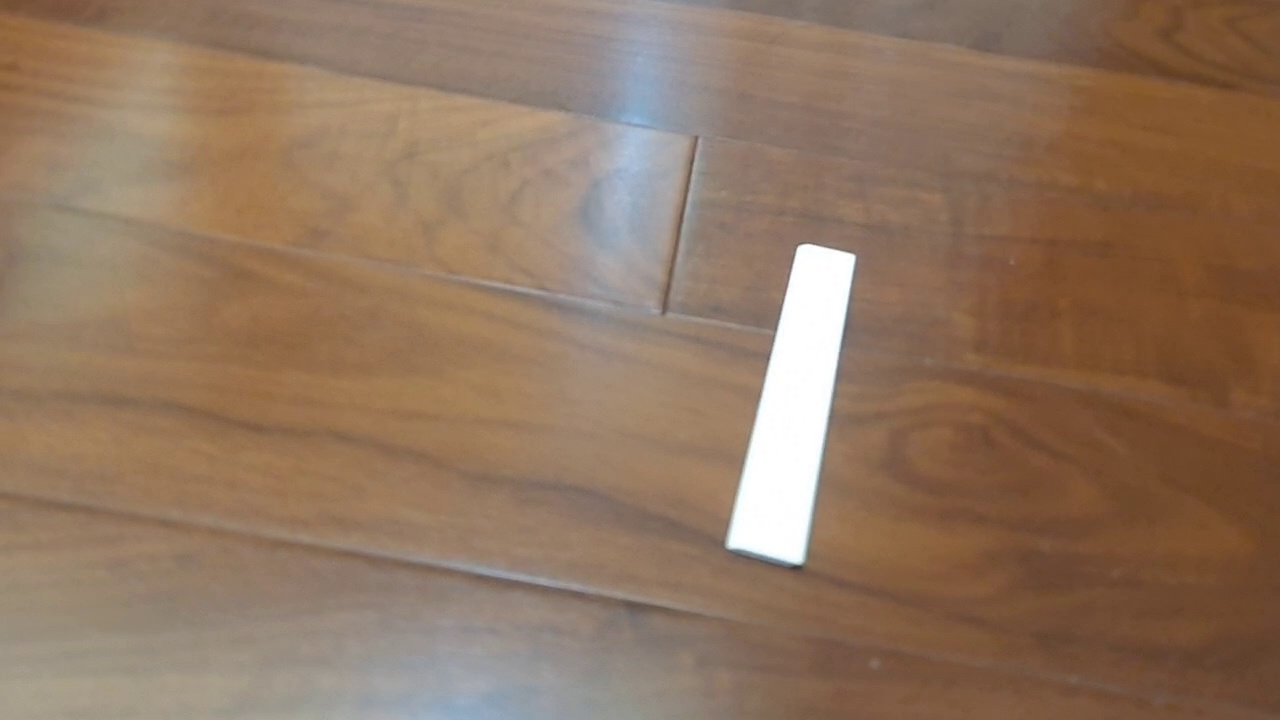ruler: (722, 241, 857, 571)
